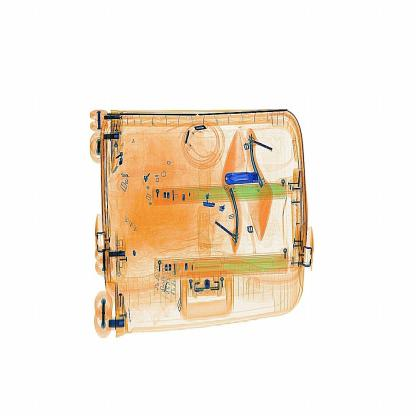knife: (224, 163, 269, 196)
